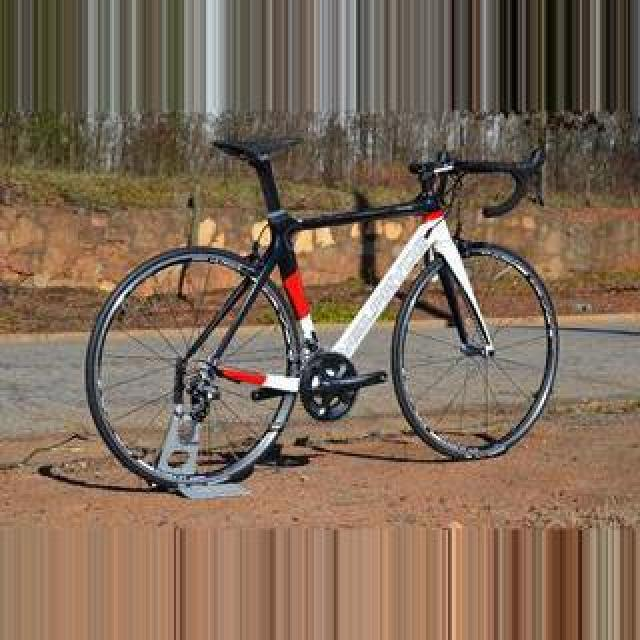Person: (70, 131, 580, 489)
